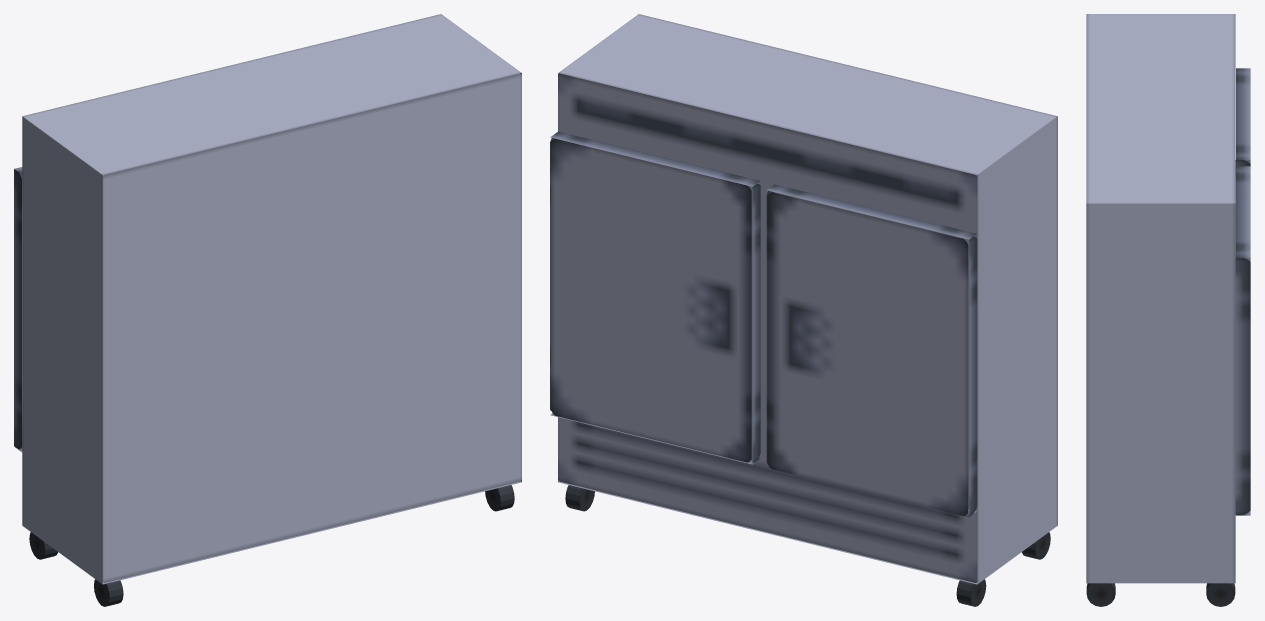
File: Fridge.fbx
The picture shows the model from 3 angles, left to right: view 1: azimuth 30°, elevation 25°; view 2: azimuth 150°, elevation 25°; view 3: azimuth 270°, elevation 25°; orthographic projection. The views are drawn at different scales.
Visible parts, largest first — view 1: Cube.023, Cube.028, Cylinder.007; view 2: Cube.023, Cube.028, Cylinder.007; view 3: Cube.023, Cube.028, Cylinder.007.
Boxes of the visible parts, x1,y1,x2,y2 form: Cube.023: (22,14,521,584); Cube.028: (14,167,22,451); Cylinder.007: (29,485,514,606); Cube.023: (558,14,1057,584); Cube.028: (550,131,977,517); Cylinder.007: (565,485,1050,606); Cube.023: (1086,14,1235,583); Cube.028: (1235,68,1250,515); Cylinder.007: (1086,583,1235,606).
Size of the model in its own units: 300 by 300 by 110.
